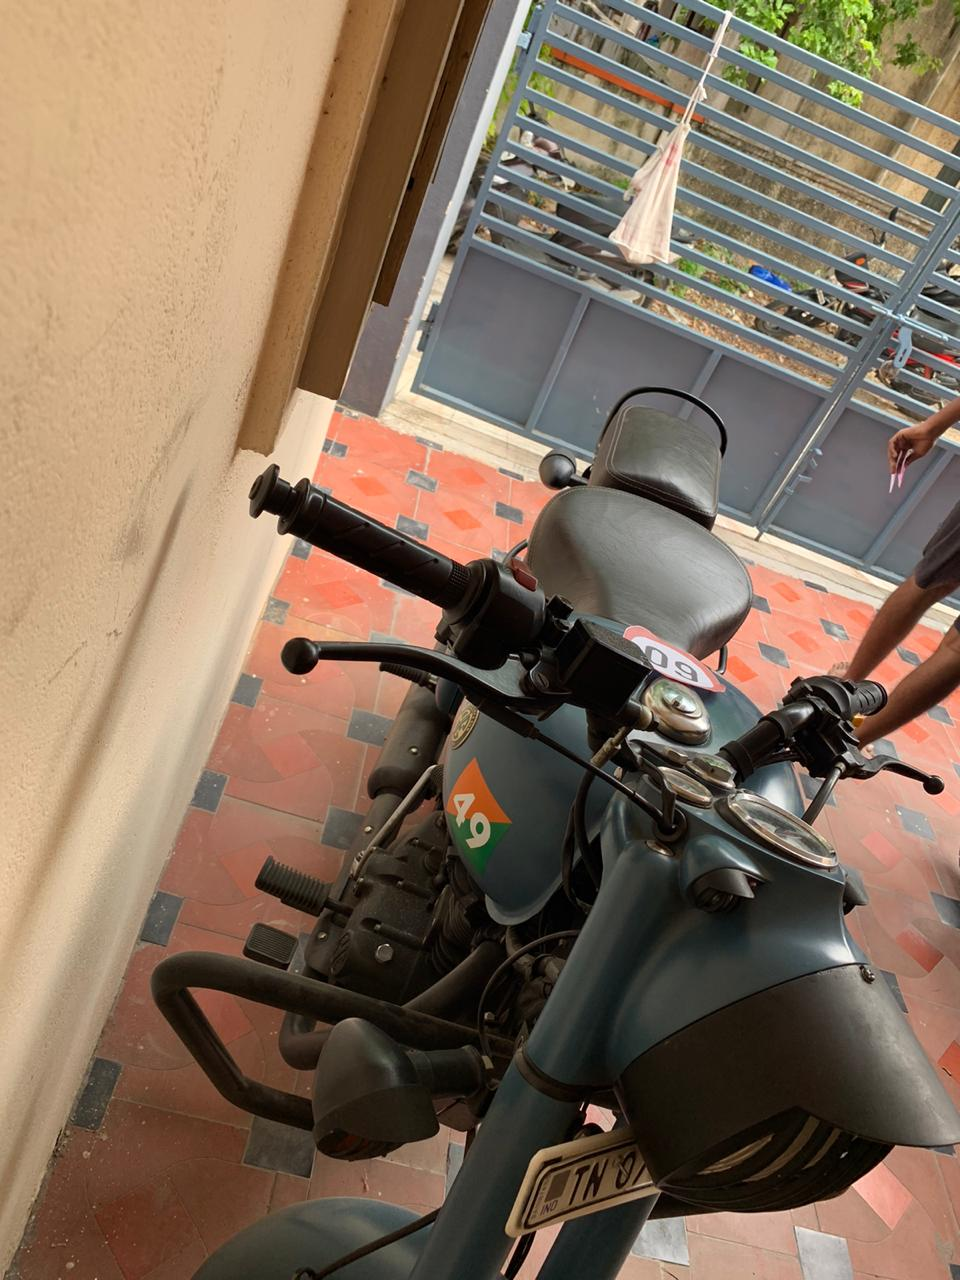SPEED LIMIT (60 KM/H): (583, 592, 772, 700)
